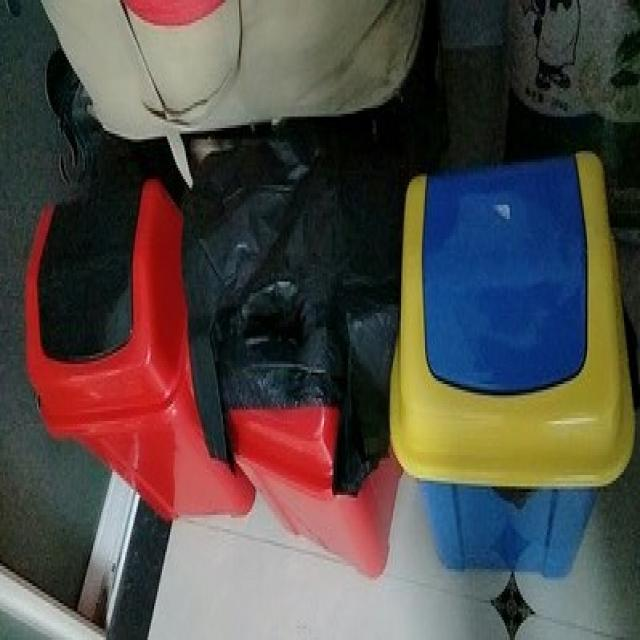ash bin: (386, 148, 638, 589), (194, 156, 395, 574), (22, 177, 255, 520)
